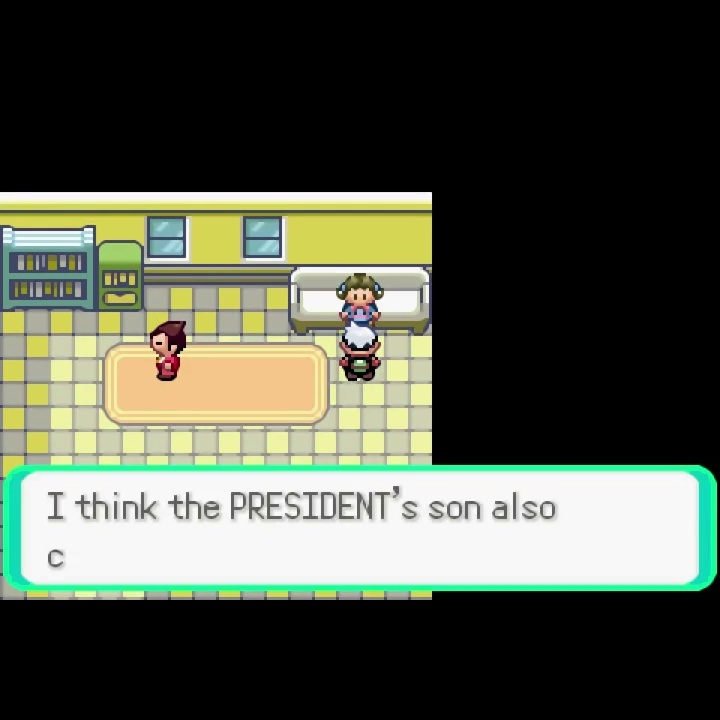npc: (146, 318, 191, 384), (336, 321, 383, 384), (335, 272, 387, 324)
